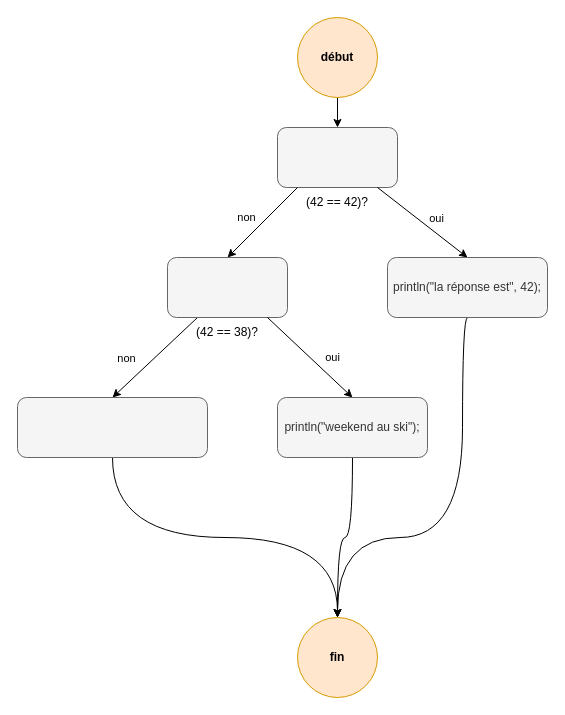
Image size: 565x715. Some labels were removed from this diagram. Each missing label, with the centre of its shape:
print("Incroyable...");: (227,287)
println("un weekend à Toulouse");: (112,427)
